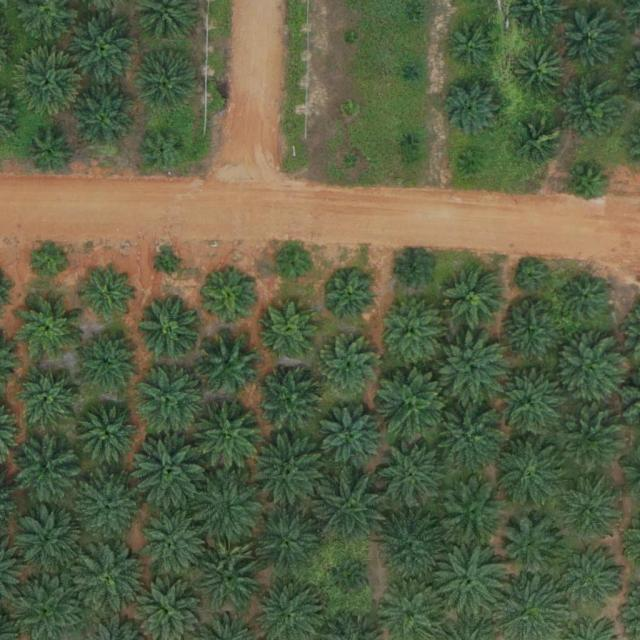Healthy: (129, 435, 207, 514), (188, 471, 266, 550), (248, 434, 326, 513), (313, 471, 391, 550), (376, 366, 454, 445), (374, 509, 452, 588), (428, 396, 506, 475), (434, 541, 512, 620), (494, 435, 572, 514), (69, 541, 147, 619), (491, 368, 569, 446), (256, 366, 327, 437), (251, 507, 322, 578), (437, 74, 507, 145), (137, 509, 207, 580), (194, 403, 264, 474), (376, 439, 446, 510), (437, 479, 508, 549), (555, 335, 625, 406), (556, 405, 626, 476), (559, 547, 629, 618), (14, 52, 84, 122), (69, 14, 139, 84), (135, 362, 205, 432), (193, 540, 263, 610), (319, 404, 389, 474), (437, 334, 507, 404), (497, 514, 567, 584), (562, 80, 625, 143), (19, 298, 82, 361), (19, 506, 82, 569), (499, 301, 562, 364), (137, 51, 200, 113), (73, 88, 135, 151), (16, 370, 78, 433), (17, 441, 79, 504), (77, 331, 139, 394), (78, 403, 140, 466), (76, 476, 138, 539), (139, 296, 202, 358), (199, 332, 261, 395), (316, 337, 378, 400), (381, 300, 443, 363), (444, 268, 506, 331), (564, 16, 619, 71), (514, 46, 569, 101), (80, 268, 135, 323), (204, 274, 259, 329), (263, 303, 318, 358), (325, 271, 380, 326), (563, 483, 618, 538), (519, 120, 566, 167), (27, 131, 74, 178), (564, 276, 611, 323)
Small: (448, 19, 503, 74), (141, 127, 188, 175), (568, 165, 607, 205), (276, 247, 315, 287), (332, 562, 371, 602), (29, 240, 68, 279), (395, 252, 434, 291), (517, 263, 548, 294), (462, 150, 486, 174), (159, 252, 182, 276), (405, 10, 421, 26), (344, 32, 360, 48), (406, 66, 422, 82), (342, 102, 357, 118), (344, 155, 359, 170), (402, 135, 417, 150)
